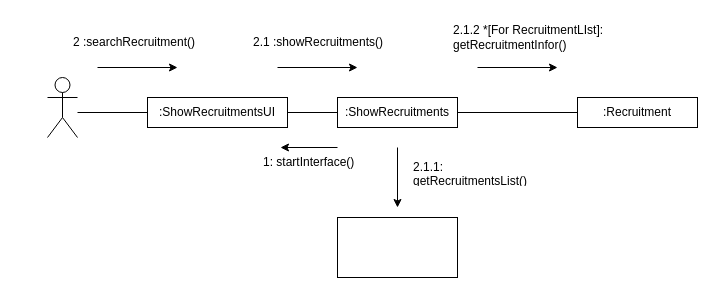
Some shapes in this 715 by 295 pixel diagram are drawn without their labels. Here are the shapes that lost their labels. From the top down, the box of each, then its label:
(46, 76, 78, 138): :GeneralMember
(336, 216, 458, 278): :Recruitments
